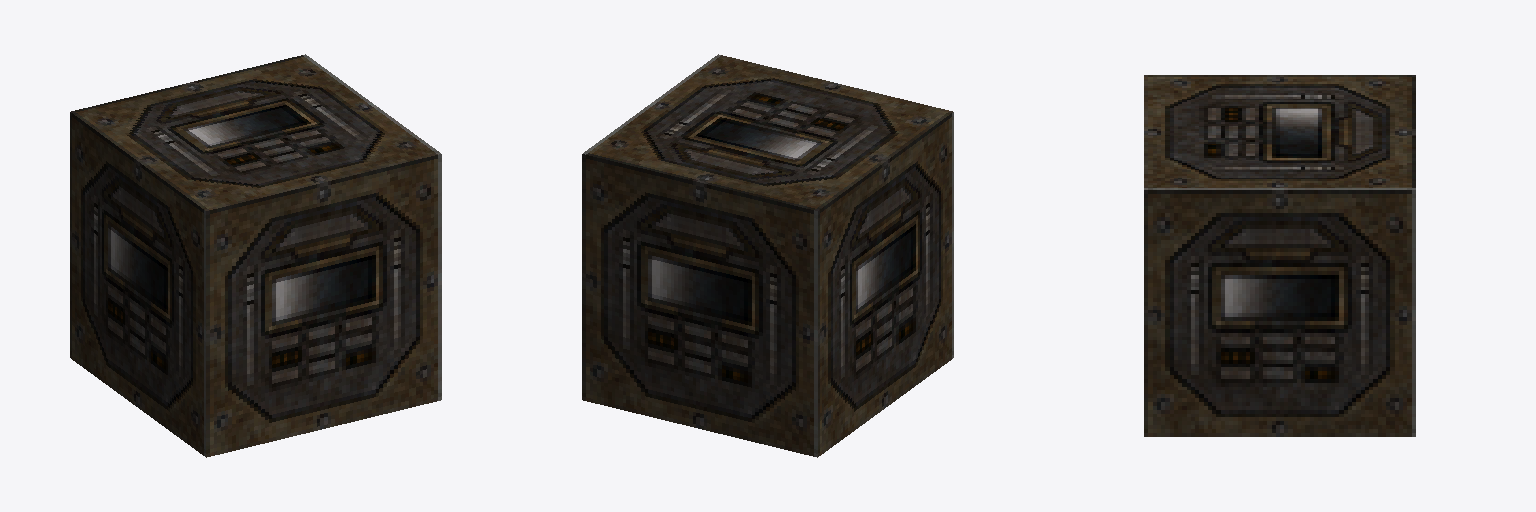
The picture shows the model from 3 angles: view 1: azimuth 30°, elevation 25°; view 2: azimuth 150°, elevation 25°; view 3: azimuth 270°, elevation 25°; orthographic projection.
Parts seen in each view (by area): view 1: crate1; view 2: crate1; view 3: crate1.
Boxes of the visible parts, box(x1,y1,x2,y2) form: crate1: box(70, 54, 441, 457); crate1: box(582, 54, 953, 457); crate1: box(1144, 75, 1415, 436).
Size of the model in its own units: 1 by 1 by 1.
Materials: 2 (1 with a texture image).